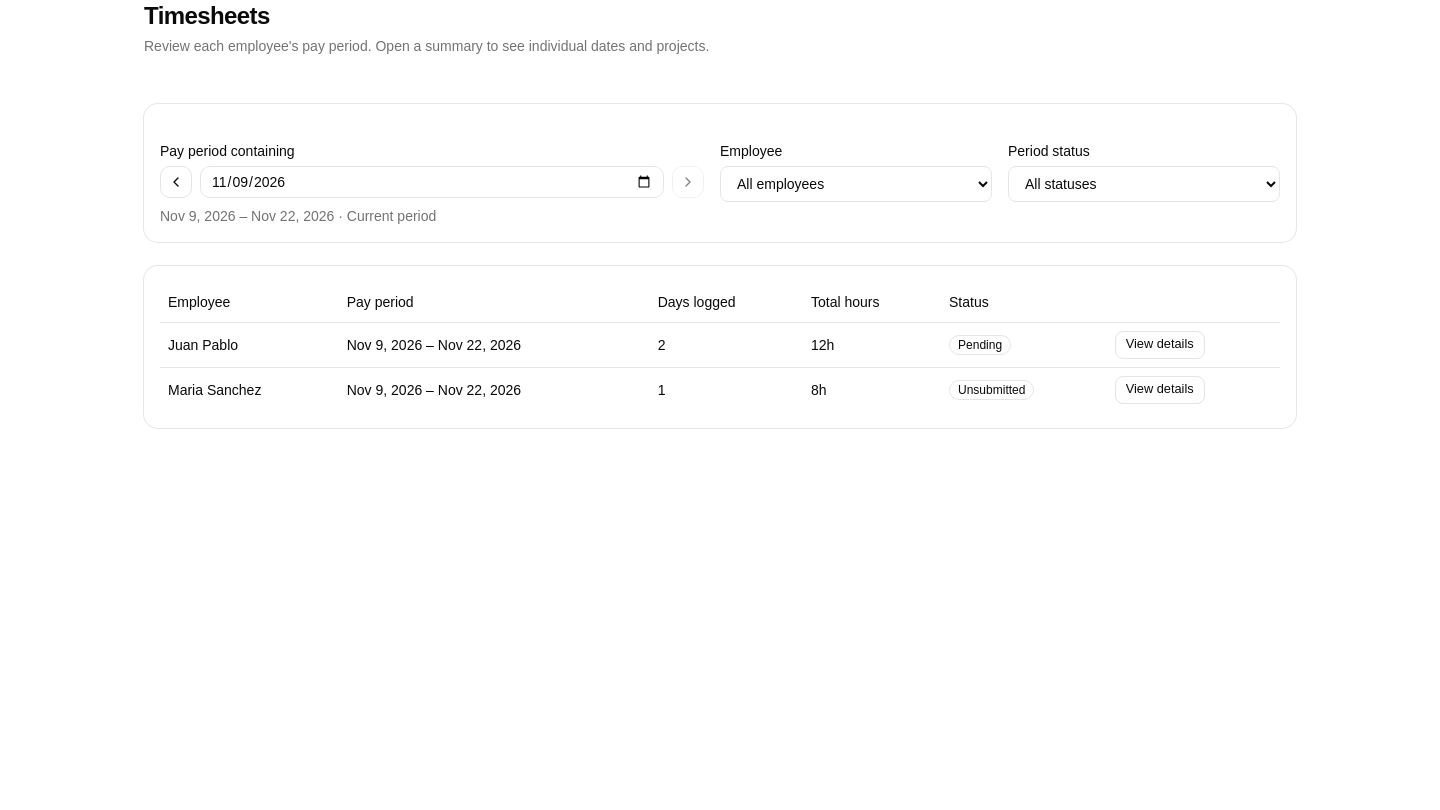
Test case: unsubmitted entries disable both review actions
The image size is (1440, 810).
Expected: the button with aria-label "View Juan Pablo's timesheet details" is shown, x1=1115 y1=330 x2=1205 y2=358
Click the button with aria-label "View Maria Sanchez's timesheet details" at (1160, 390), box x1=1115 y1=376 x2=1205 y2=404
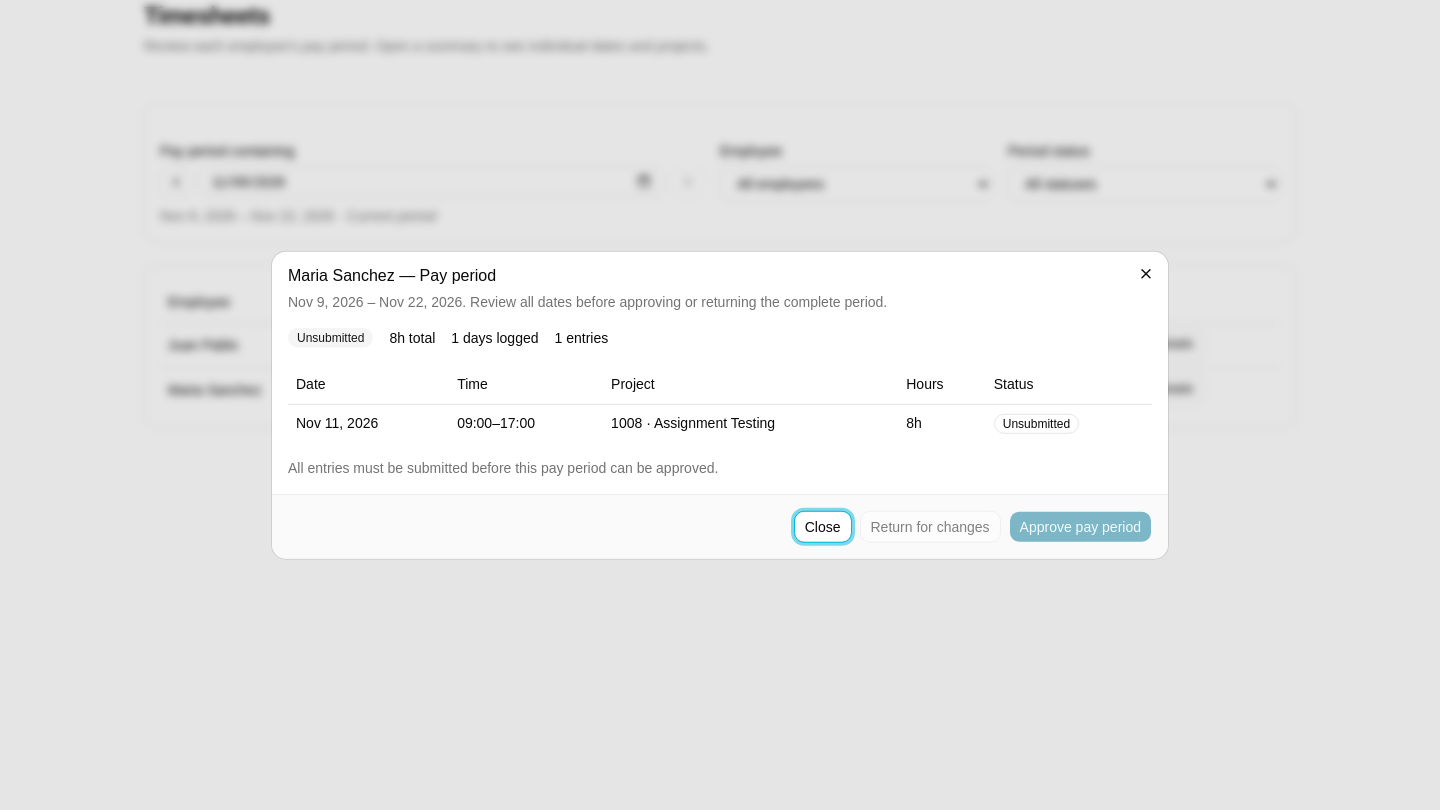
Result: the button "Approve pay period" is disabled at x1=1009 y1=510 x2=1152 y2=542
Result: the button "Return for changes" is disabled at x1=860 y1=510 x2=1001 y2=542
Result: the text "All entries must be submitted" is shown at x1=288 y1=459 x2=718 y2=475
